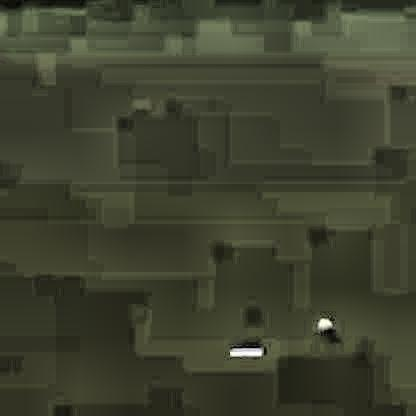golfball: (313, 314, 330, 330)
